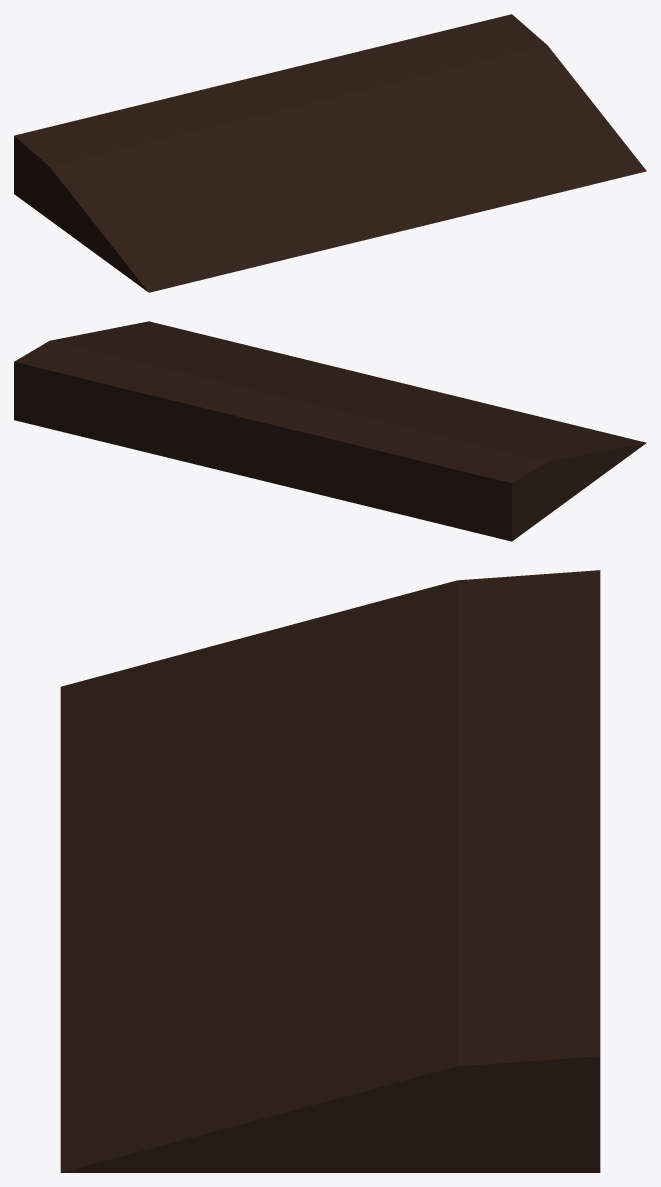
File: CopperMetal.fbx
3 renders of one model, top to bottom at view 1: azimuth 30°, elevation 25°; view 2: azimuth 150°, elevation 25°; view 3: azimuth 270°, elevation 25°, orthographic. The views are drawn at different scales.
Visible parts, largest first — view 1: MetalThingy; view 2: MetalThingy; view 3: MetalThingy.
Boxes of the visible parts, bbox=[...] form: MetalThingy: bbox=[14, 14, 646, 292]; MetalThingy: bbox=[14, 321, 646, 541]; MetalThingy: bbox=[60, 570, 600, 1172].
Size of the model in its own units: 29.7 by 3.33 by 13.94.
